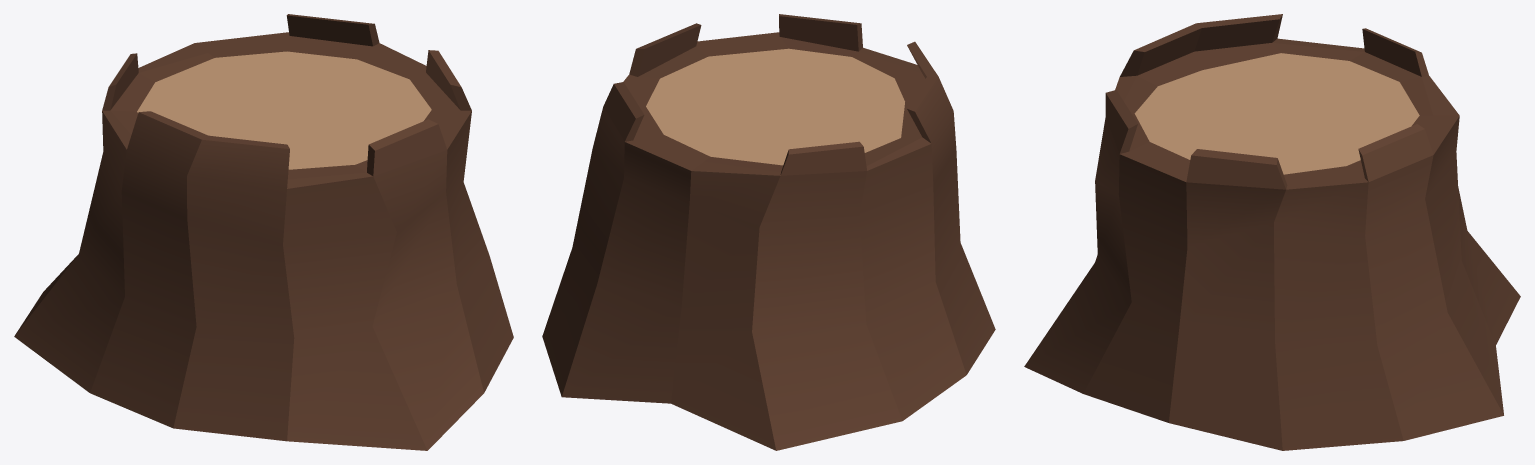
The model's file is treestump.fbx.
3 views of the same model, side by side, from view 1: azimuth 30°, elevation 25°; view 2: azimuth 150°, elevation 25°; view 3: azimuth 270°, elevation 25° (orthographic). The views are drawn at different scales.
Parts seen in each view (by area): view 1: treestump1; view 2: treestump1; view 3: treestump1.
Part boxes in pixels (left/top/right/bottom): treestump1: left=14, top=14, right=513, bottom=450; treestump1: left=542, top=14, right=995, bottom=450; treestump1: left=1024, top=14, right=1520, bottom=450.
Size of the model in its own units: 0.7535 by 0.4951 by 0.8045.
